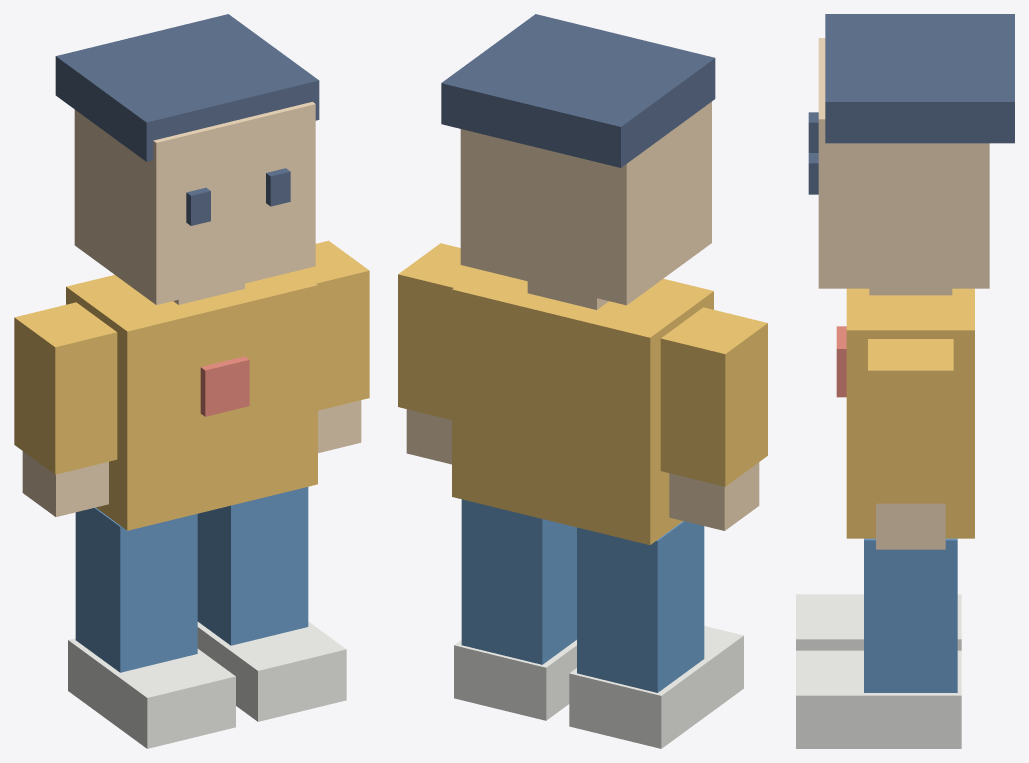
File: runner.glb
3 views of the same model, side by side, from view 1: azimuth 30°, elevation 25°; view 2: azimuth 150°, elevation 25°; view 3: azimuth 270°, elevation 25° (orthographic). The views are drawn at different scales.
Visible parts, largest first — view 1: Torso, Head, Hair, LeftPants, LeftSleeve, RightPants, LeftShoe, RightShoe, RightSleeve, LeftHand, ChestBadge, RightHand (+2 smaller); view 2: Torso, Head, Hair, LeftPants, LeftSleeve, RightPants, LeftShoe, RightSleeve, RightShoe, LeftHand, RightHand, Neck; view 3: Head, Hair, Torso, RightSleeve, RightPants, RightShoe, LeftShoe, RightHand, ChestBadge, Neck, RightEye, LeftEye.
Part boxes in pixels (x1=…): Torso: x1=66, y1=270, x2=317, y2=530; Head: x1=74, y1=102, x2=315, y2=304; Hair: x1=55, y1=14, x2=319, y2=161; LeftPants: x1=75, y1=507, x2=197, y2=672; LeftSleeve: x1=14, y1=302, x2=117, y2=474; RightPants: x1=197, y1=487, x2=308, y2=645; LeftShoe: x1=68, y1=638, x2=235, y2=748; RightShoe: x1=197, y1=621, x2=346, y2=721; RightSleeve: x1=298, y1=240, x2=369, y2=410; LeftHand: x1=22, y1=451, x2=108, y2=516; ChestBadge: x1=200, y1=356, x2=249, y2=416; RightHand: x1=318, y1=400, x2=361, y2=452; Torso: x1=452, y1=269, x2=713, y2=544; Head: x1=460, y1=101, x2=711, y2=305; Hair: x1=441, y1=14, x2=715, y2=167; LeftPants: x1=577, y1=521, x2=704, y2=692; LeftSleeve: x1=660, y1=307, x2=767, y2=486; RightPants: x1=461, y1=499, x2=576, y2=664; LeftShoe: x1=569, y1=626, x2=743, y2=748; RightSleeve: x1=398, y1=243, x2=478, y2=419; RightShoe: x1=454, y1=640, x2=576, y2=720; LeftHand: x1=669, y1=462, x2=759, y2=530; RightHand: x1=406, y1=409, x2=451, y2=464; Neck: x1=527, y1=281, x2=608, y2=309; Head: x1=818, y1=38, x2=989, y2=288; Hair: x1=825, y1=14, x2=1014, y2=143; Torso: x1=846, y1=288, x2=974, y2=538; RightSleeve: x1=868, y1=339, x2=953, y2=503; RightPants: x1=864, y1=538, x2=957, y2=692; RightShoe: x1=796, y1=650, x2=961, y2=748; LeftShoe: x1=796, y1=594, x2=961, y2=650; RightHand: x1=876, y1=503, x2=945, y2=549; ChestBadge: x1=836, y1=326, x2=846, y2=397; Neck: x1=869, y1=288, x2=952, y2=295; RightEye: x1=808, y1=153, x2=818, y2=194; LeftEye: x1=808, y1=112, x2=818, y2=152.
Size of the model in its own units: 1.42 by 2.65 by 0.82.
